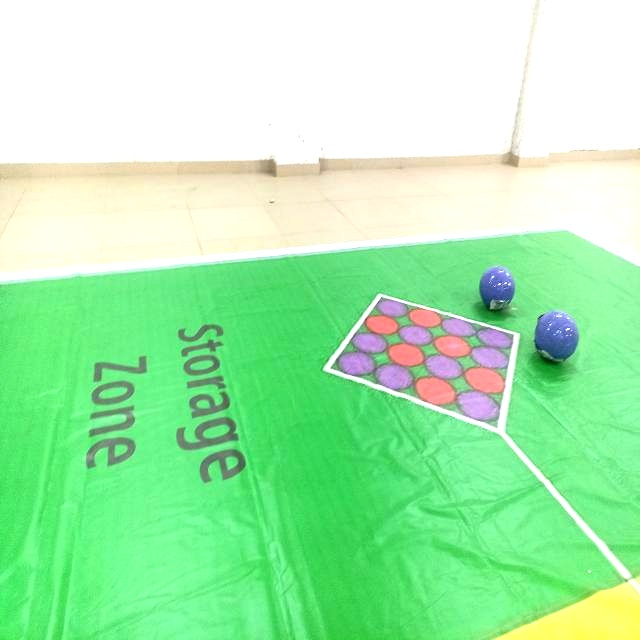purple_ball: (534, 304, 586, 366), (479, 258, 518, 318)
